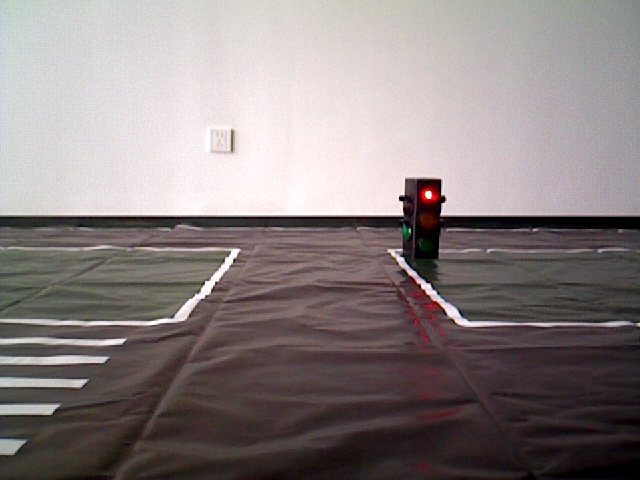red: (401, 179, 440, 263)
